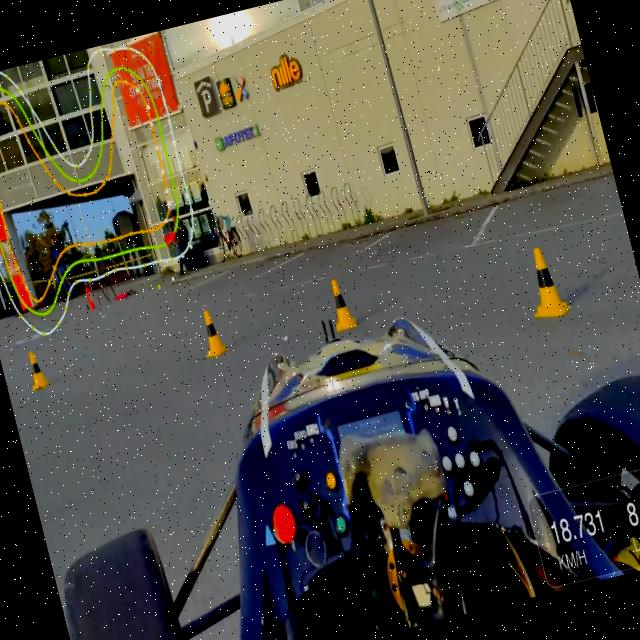yellow_cone: (518, 242, 572, 321), (324, 277, 358, 331), (197, 306, 230, 359), (21, 349, 50, 392)
